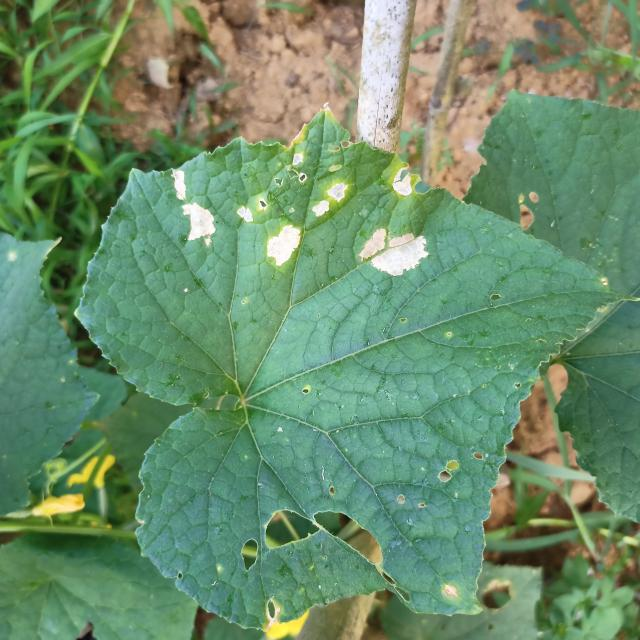disease_cucumber: (234, 152, 350, 274), (162, 166, 220, 252), (351, 223, 435, 280), (384, 162, 420, 204)
